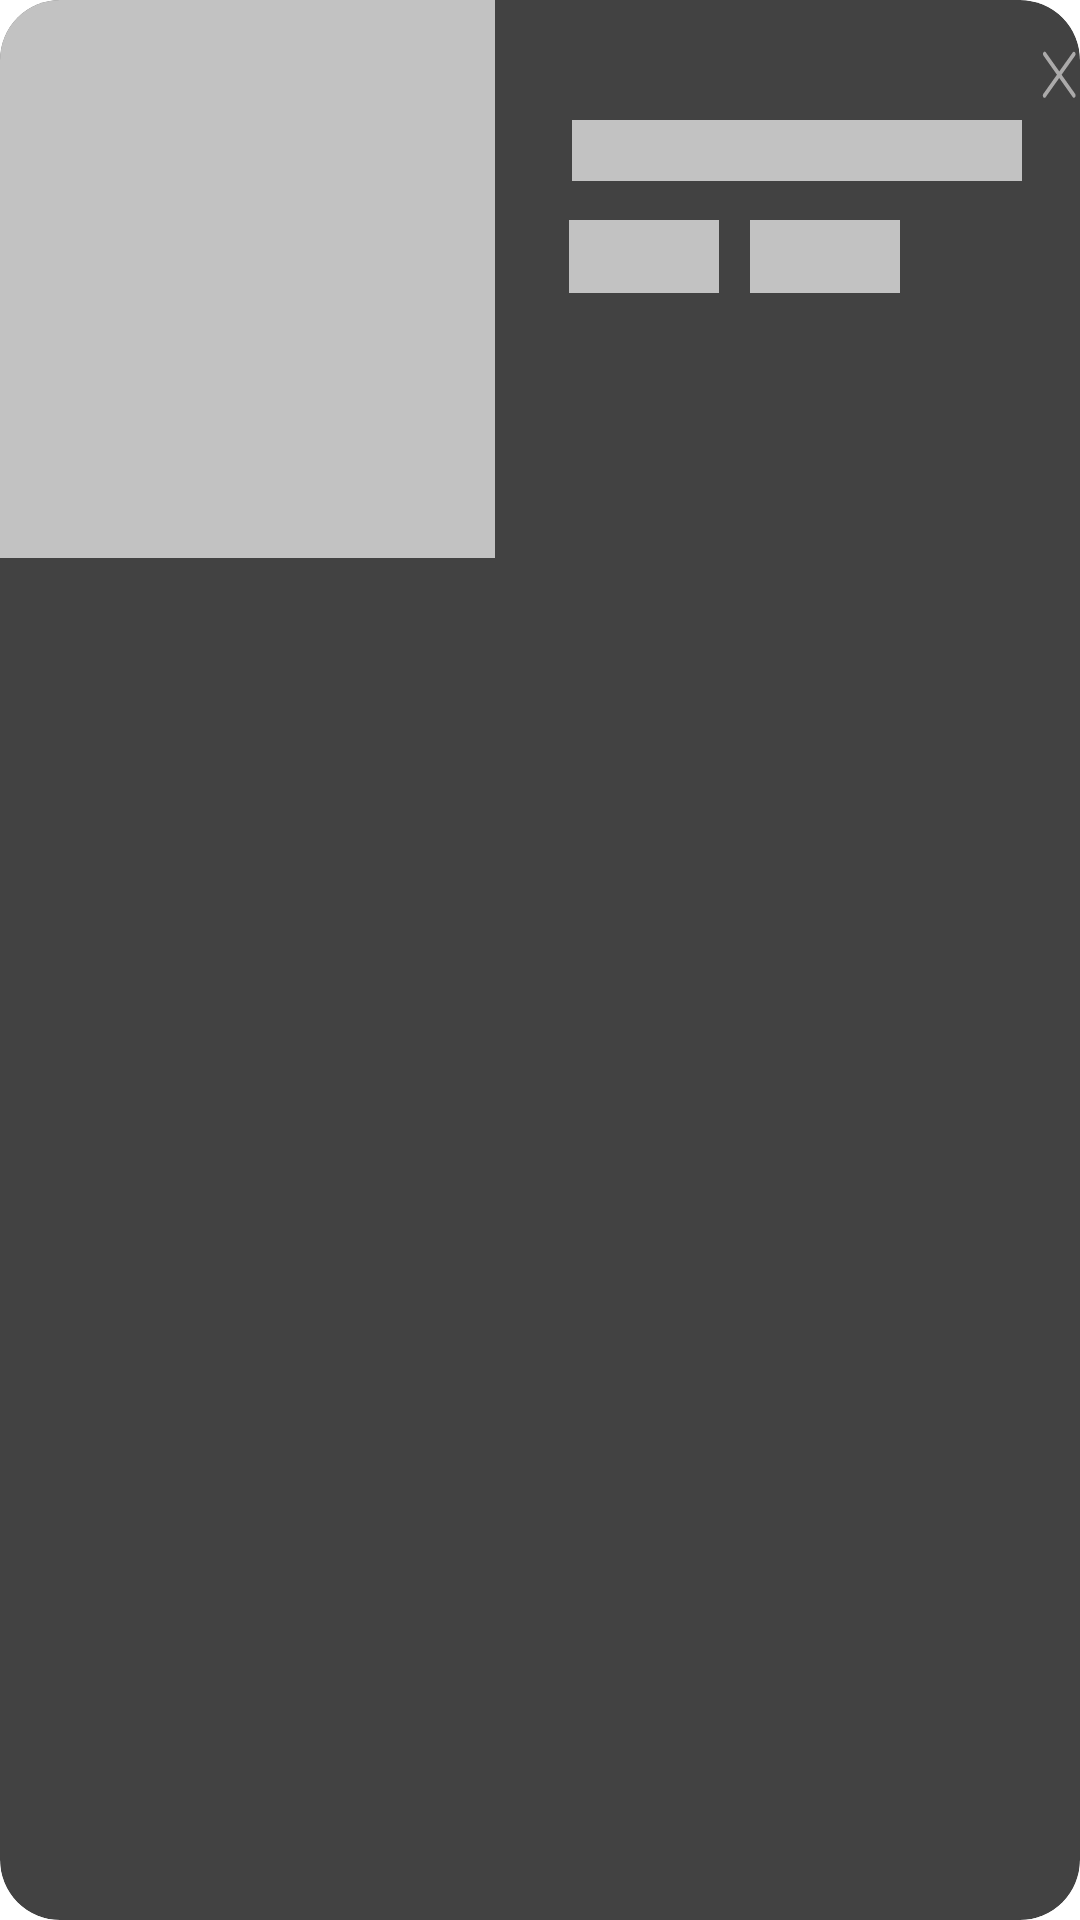

Point at icon controls on the screen. Image size 1080px x 1920px, points as (x,y).
close: (1059,74)
